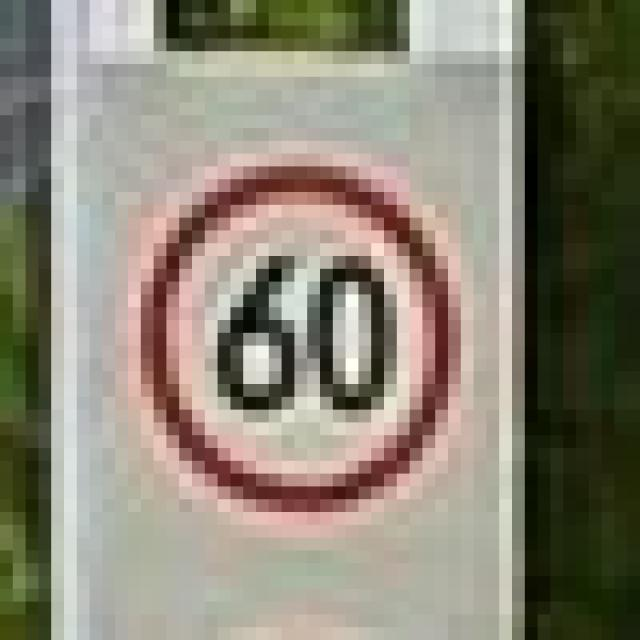speed_limit_40: (115, 141, 448, 499)
